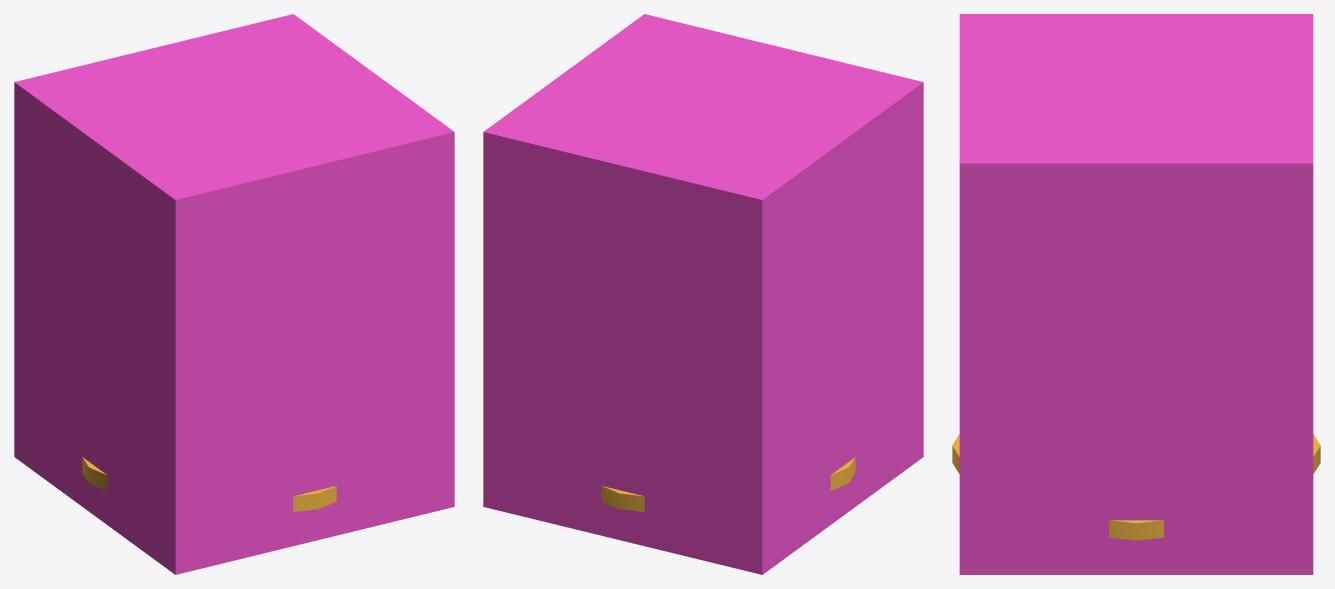
Rendered from missile_launcher_lvl03.glb.
3 renders of one model, left to right at view 1: azimuth 30°, elevation 25°; view 2: azimuth 150°, elevation 25°; view 3: azimuth 270°, elevation 25°, orthographic. The views are drawn at different scales.
Parts seen in each view (by area): view 1: COL_BOX_BODY, base_mesh; view 2: COL_BOX_BODY, base_mesh; view 3: COL_BOX_BODY, base_mesh.
Boxes of the visible parts, box(x1,y1,x2,y2) form: COL_BOX_BODY: box(14, 14, 454, 574); base_mesh: box(82, 457, 336, 511); COL_BOX_BODY: box(483, 14, 923, 574); base_mesh: box(601, 457, 855, 511); COL_BOX_BODY: box(959, 14, 1313, 574); base_mesh: box(952, 434, 1320, 547).
Bounding box in the file's own units: 1.25 × 1.54 × 1.25.
2 materials, 1 textured.
